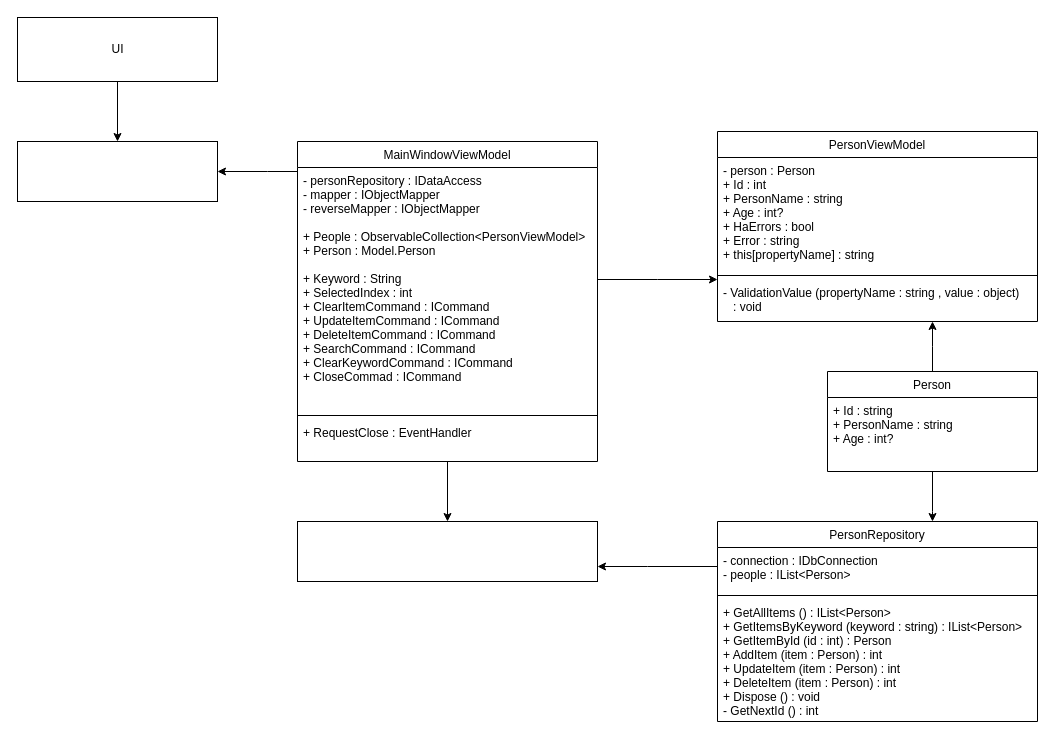
Image size: 1055x742. Some labels were removed from this diagram. The centre of each missing label's shape, as x and y in pixels:
«interface» IDataAccess : IDisoisable: (x=447, y=551)
«interface» IOperation: (x=117, y=171)
